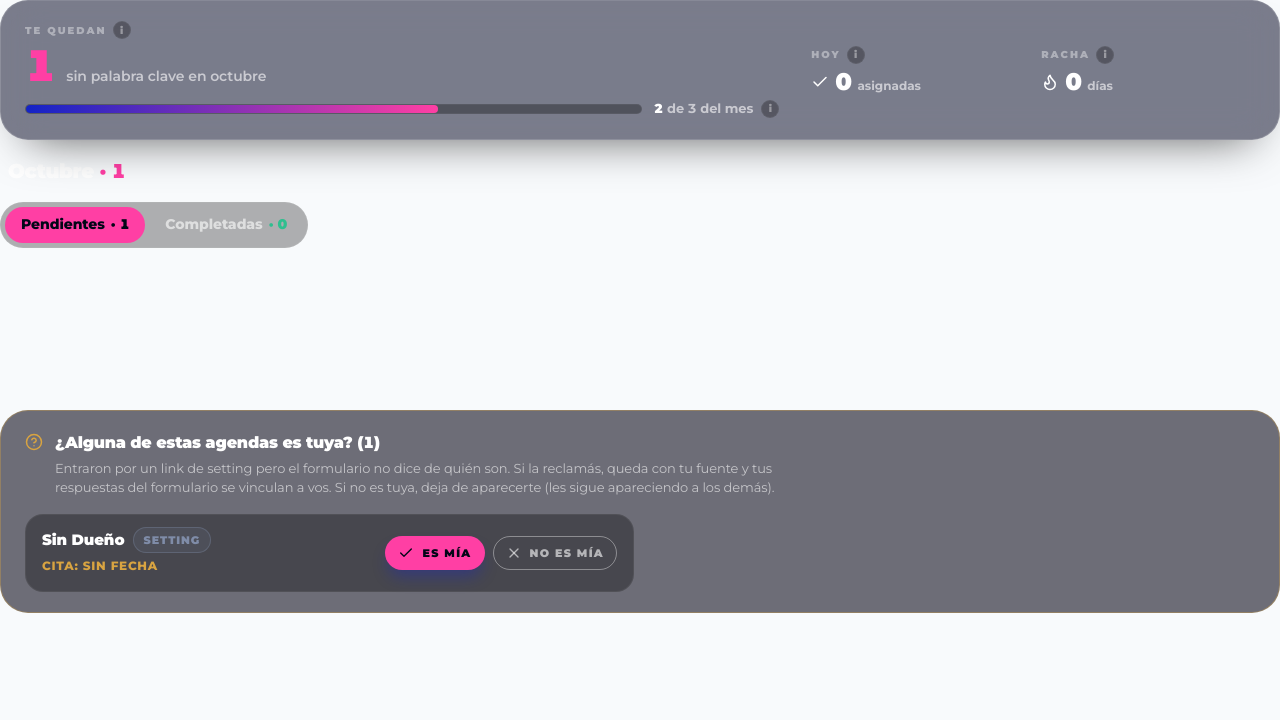
MisAgendas · la bandeja de palabras clave › una carga que vuelve tarde, con la bandeja de antes, no pisa lo asignado ni tapa el festejo
expect the element named "Tu avance" is shown: met, box [0,0,1279,140]
Click the button "Es mía": click(435, 553) [385,536,484,570]
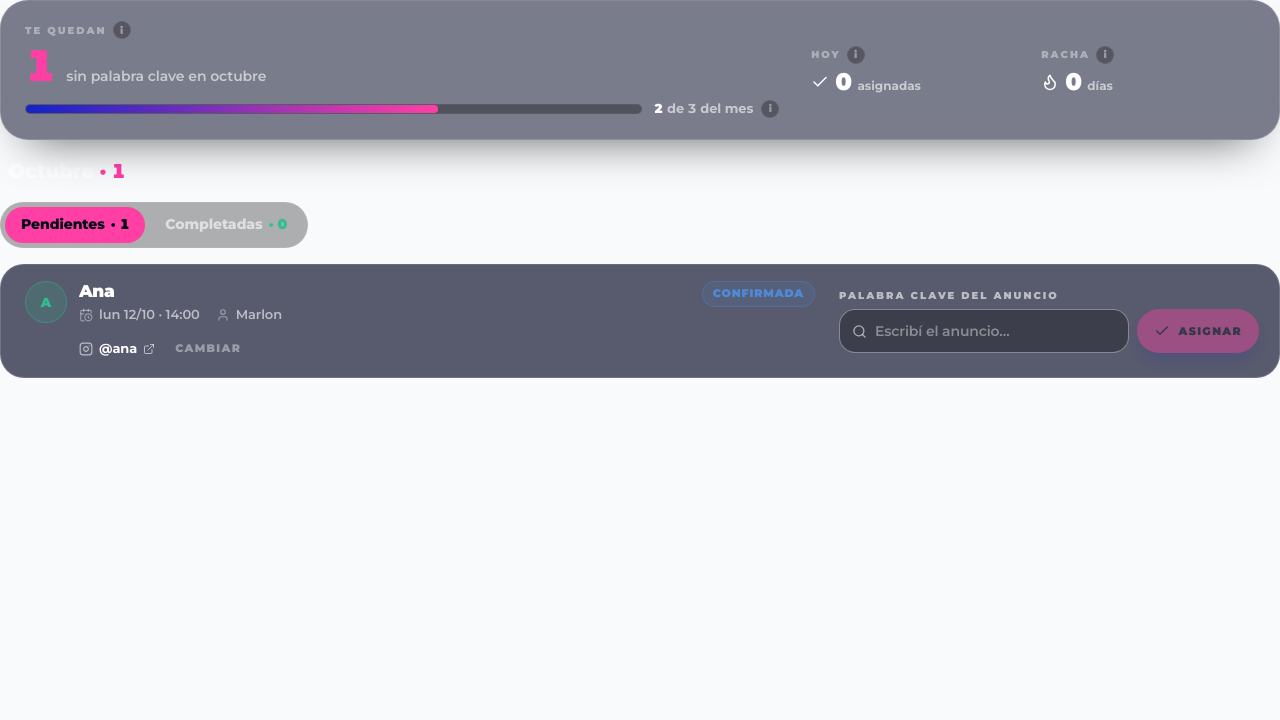
In the dropdown: (999, 331) [875,310,1122,352], type "guia"
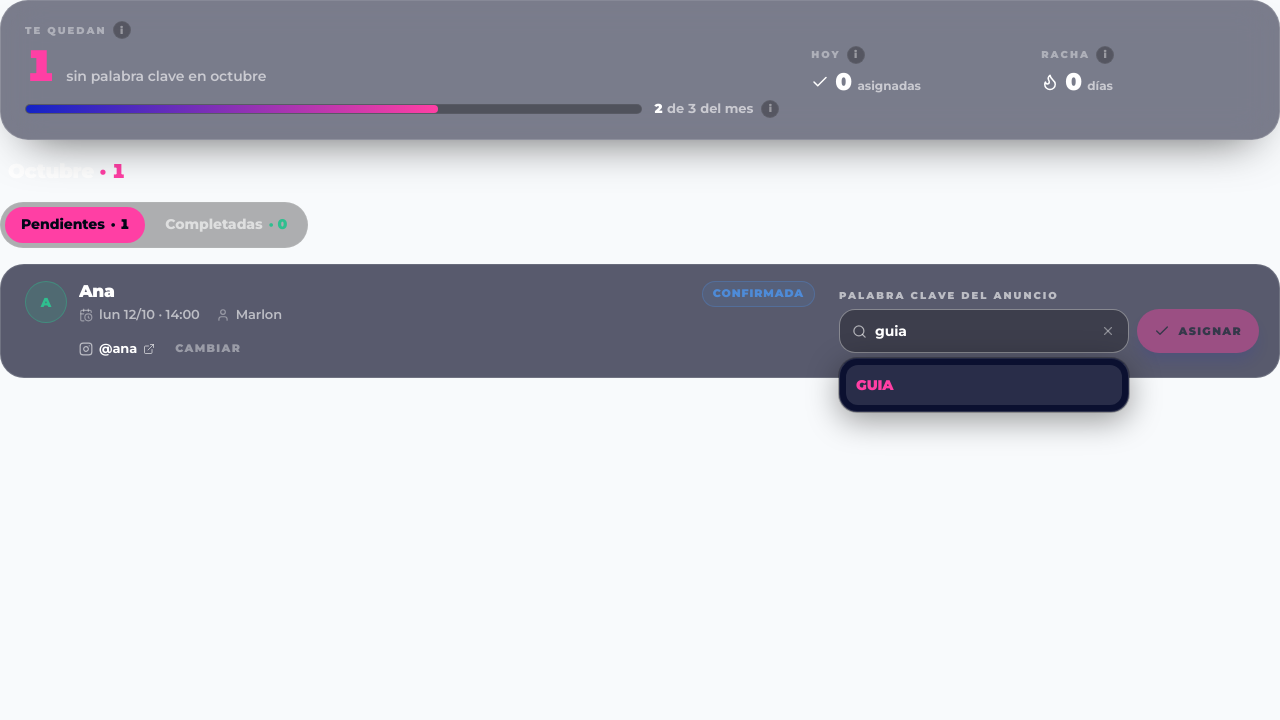
Press Enter in the dropdown, box [875,310,1086,352]
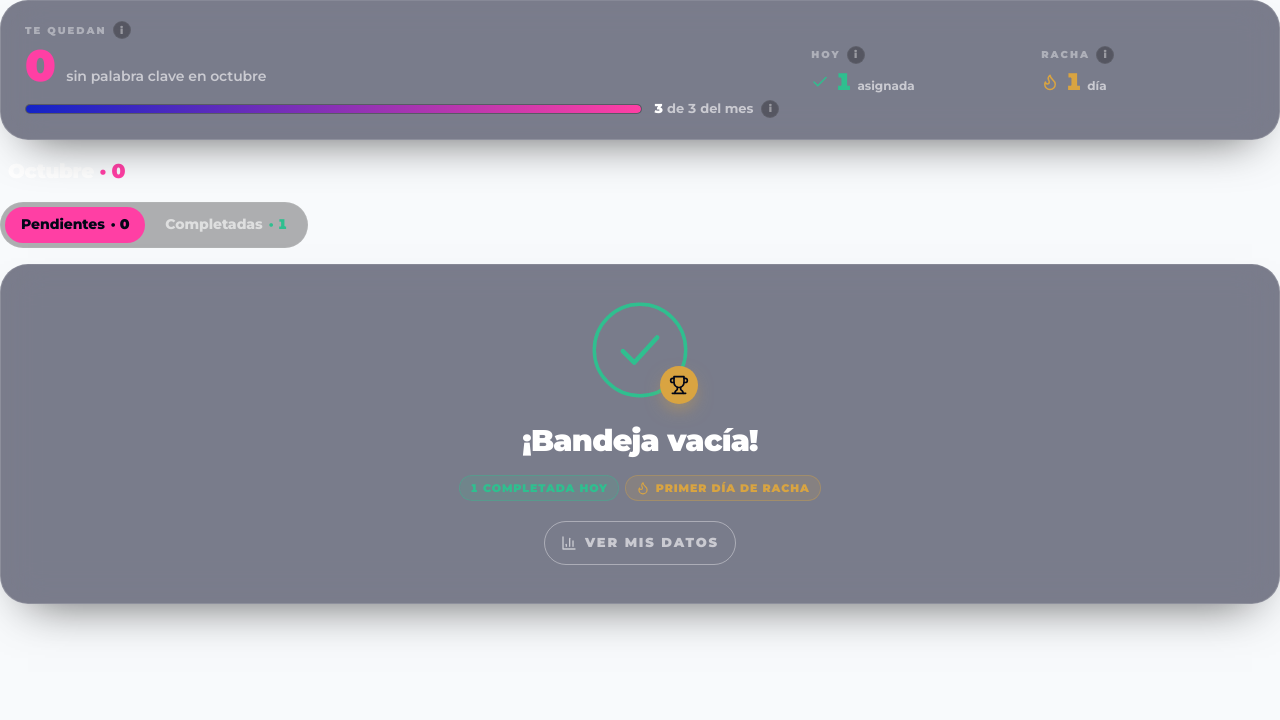
expect the heading "¡Bandeja vacía!" is shown: met, box [522,418,758,463]
